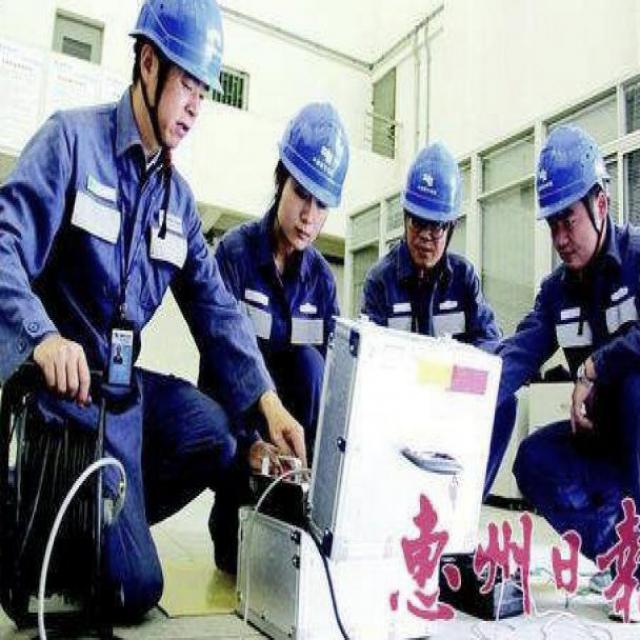helmet: (521, 97, 623, 301), (117, 0, 223, 155), (266, 89, 348, 275), (393, 119, 460, 273)
